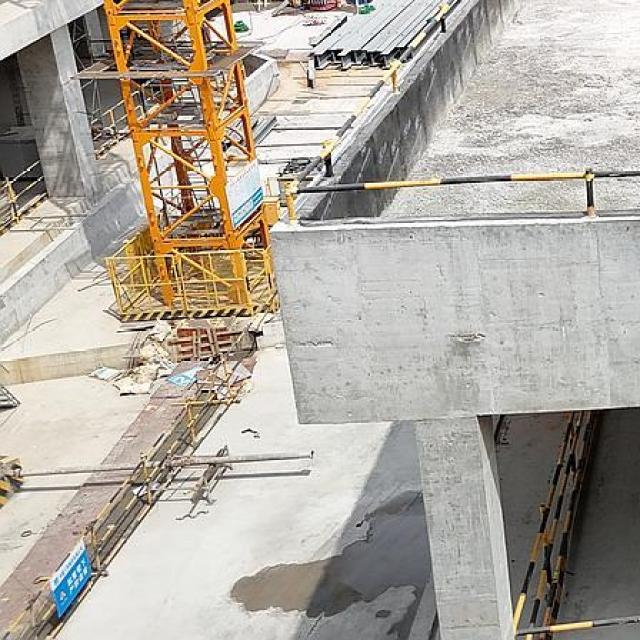edge_guardrail: (283, 0, 640, 223), (513, 410, 640, 640), (0, 158, 49, 233), (89, 99, 130, 157)
